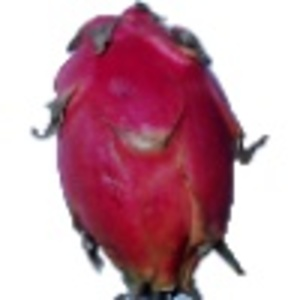pitaia: (32, 1, 267, 300)
